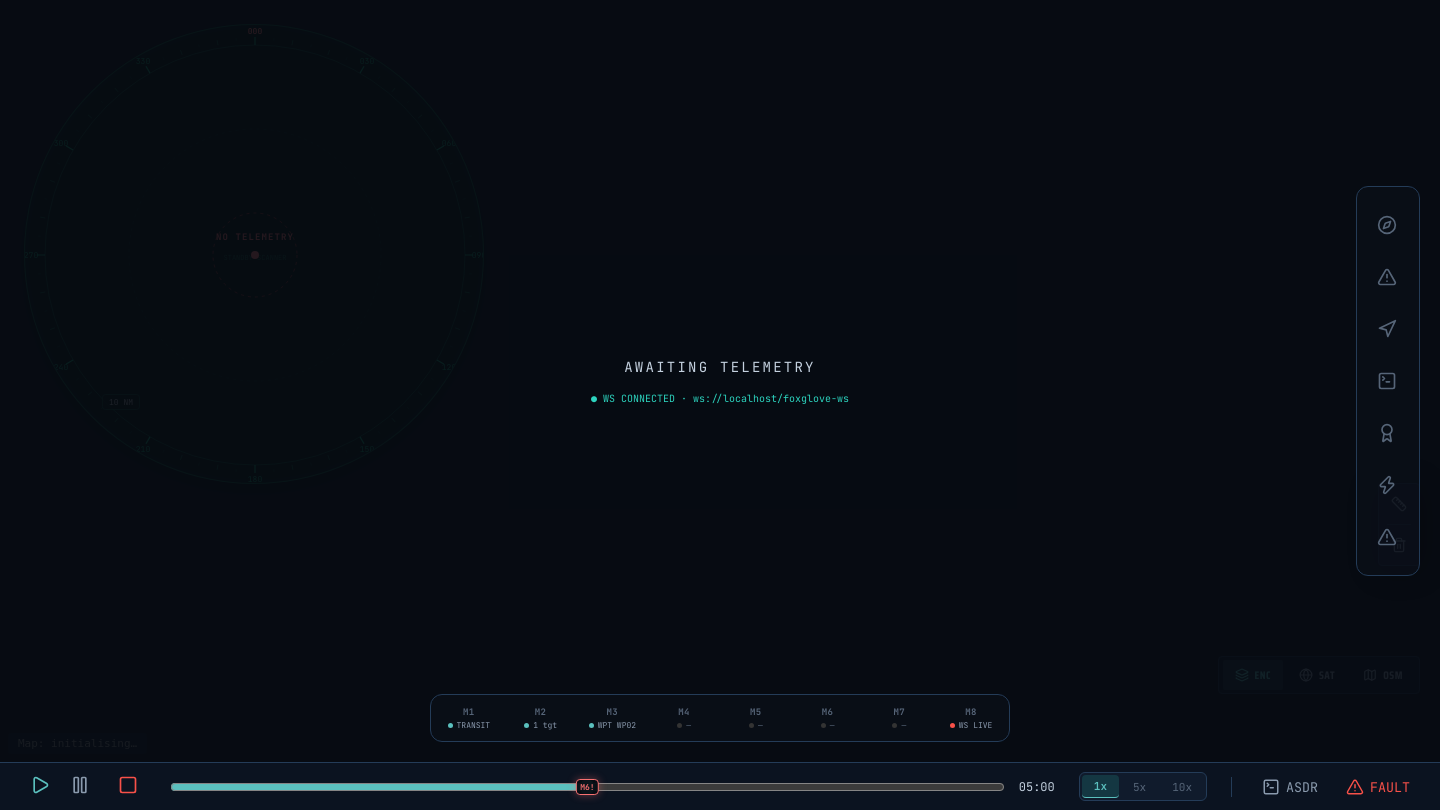
Test case: SimulationMonitor › renders backend primary threat risk score trend from threat state history
Click the button with test id "right-tab-threat" at (1388, 277), box x1=1366 y1=255 x2=1410 y2=299
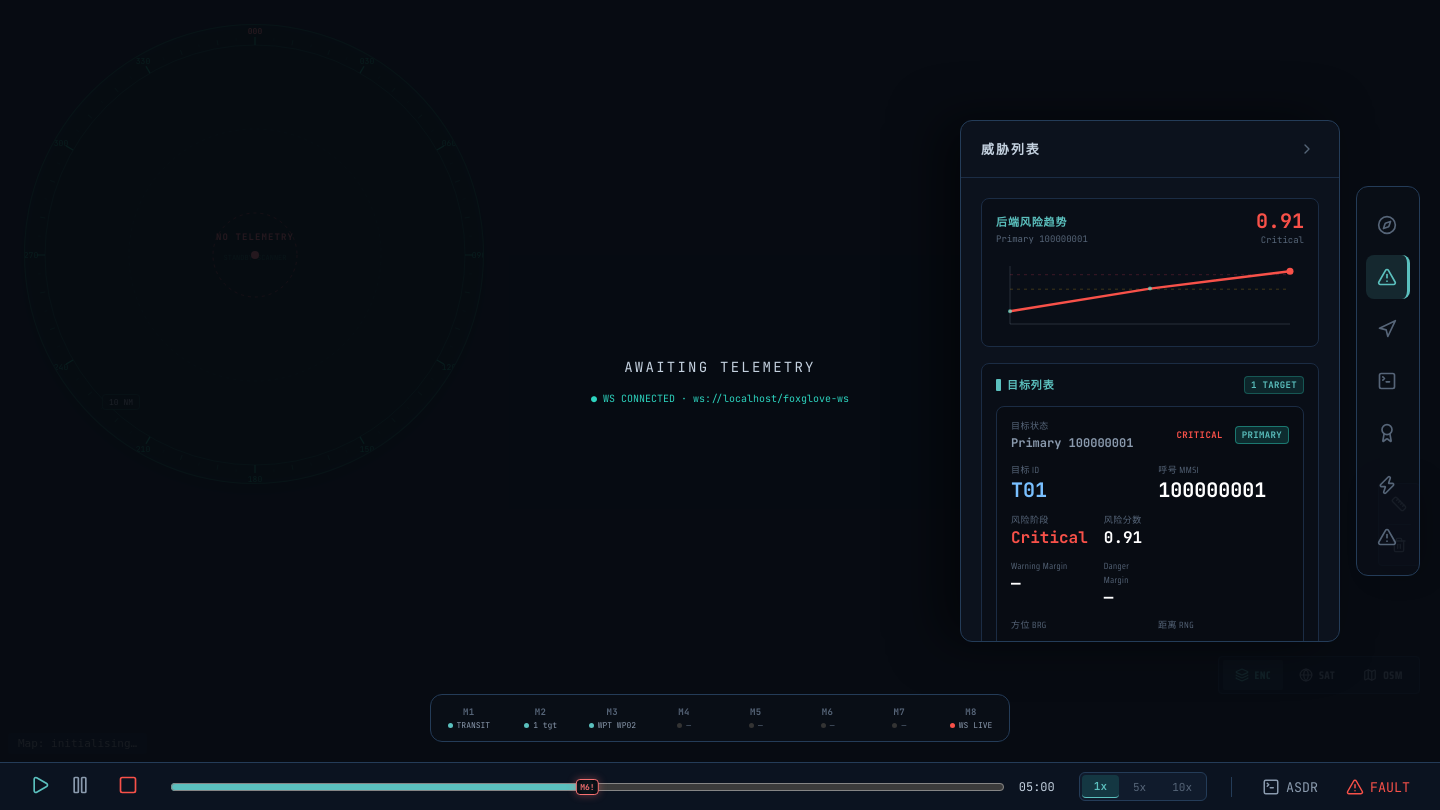
Expected: the text "后端风险趋势" is shown, x1=996 y1=214 x2=1067 y2=230
Expected: the picture with test id "threat-risk-trend" is shown, x1=996 y1=256 x2=1304 y2=334
